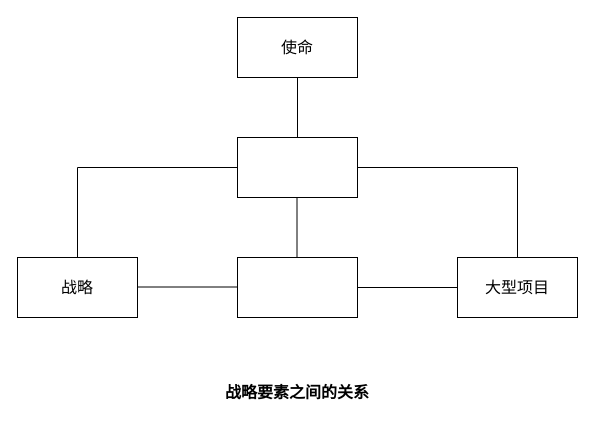
Image size: 595x425. Some labels were removed from this diagram. Here are the shapes that lost their labels. From the top down, the box of each, then its label:
(236, 136, 358, 198): 目标
(236, 256, 358, 318): 目的
